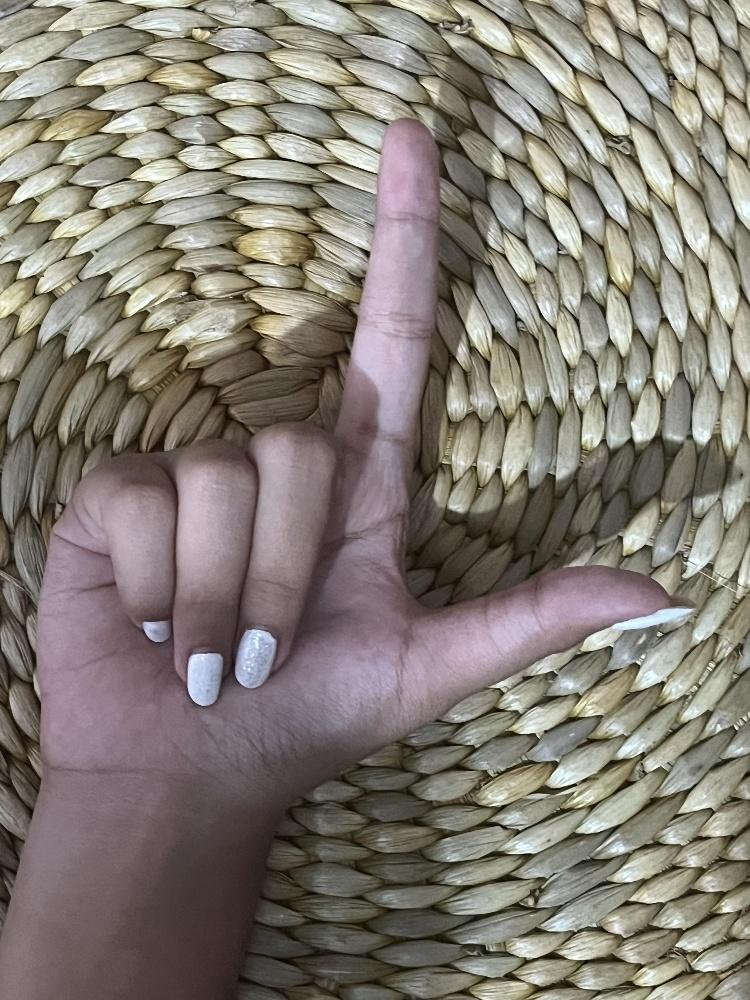l: (31, 112, 679, 804)
